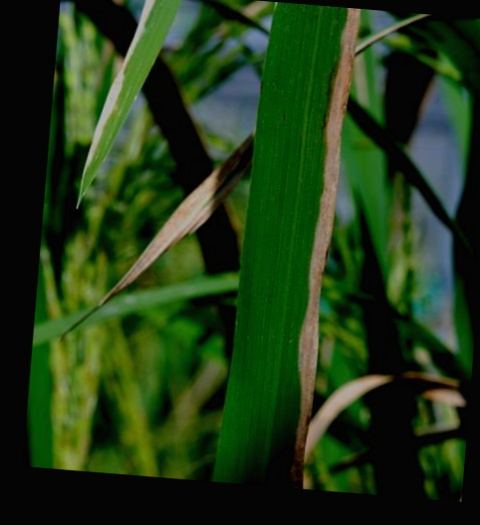Leaf_Blast: (305, 0, 346, 479)
